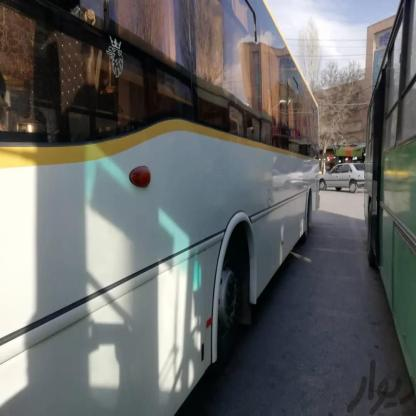Bus: (0, 0, 322, 416), (366, 0, 416, 416)
Car: (314, 156, 367, 198)
